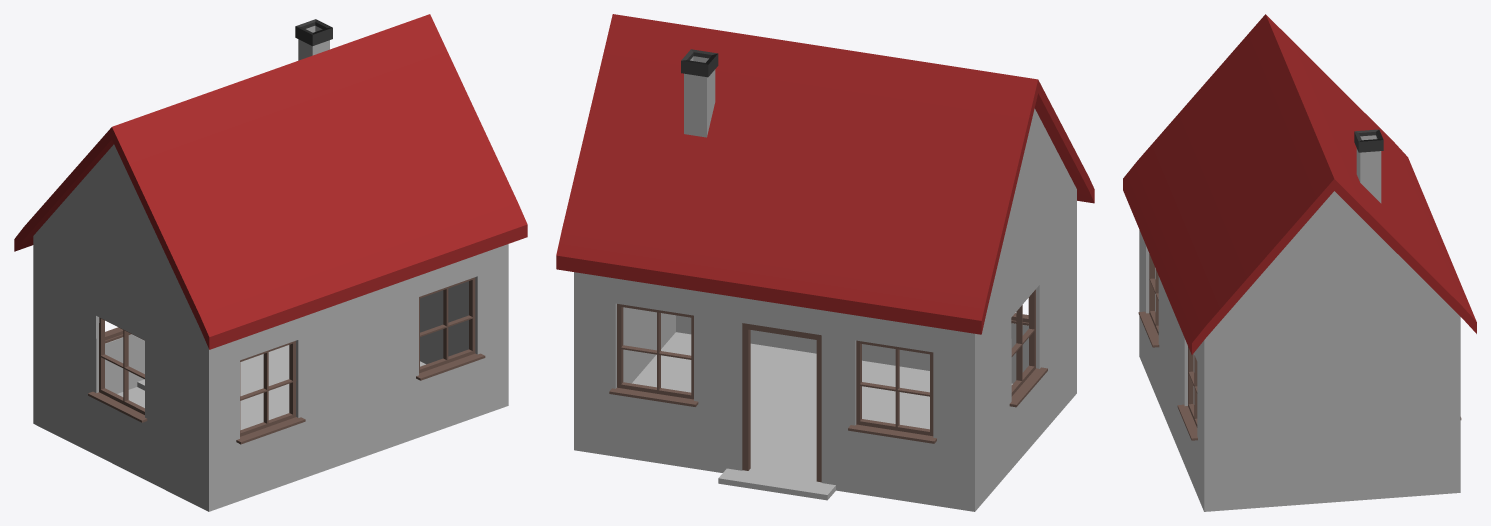
The model's file is House.fbx.
3 views of the same model, side by side, from view 1: azimuth 30°, elevation 25°; view 2: azimuth 150°, elevation 25°; view 3: azimuth 270°, elevation 25° (orthographic). The views are drawn at different scales.
Parts seen in each view (by area): view 1: House; view 2: House; view 3: House.
Boxes of the visible parts, x1,y1,x2,y2 form: House: (14,14,527,511); House: (556,14,1094,511); House: (1123,14,1476,511).
Bounding box in the file's own units: 11705 × 9631 × 9402.
